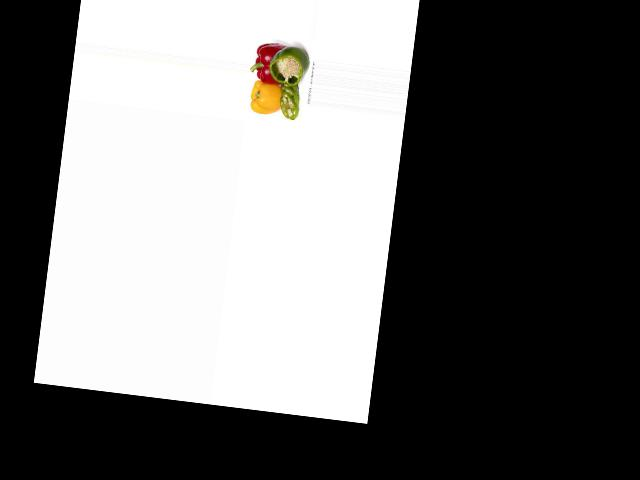bell_pepper: (266, 40, 308, 87)
